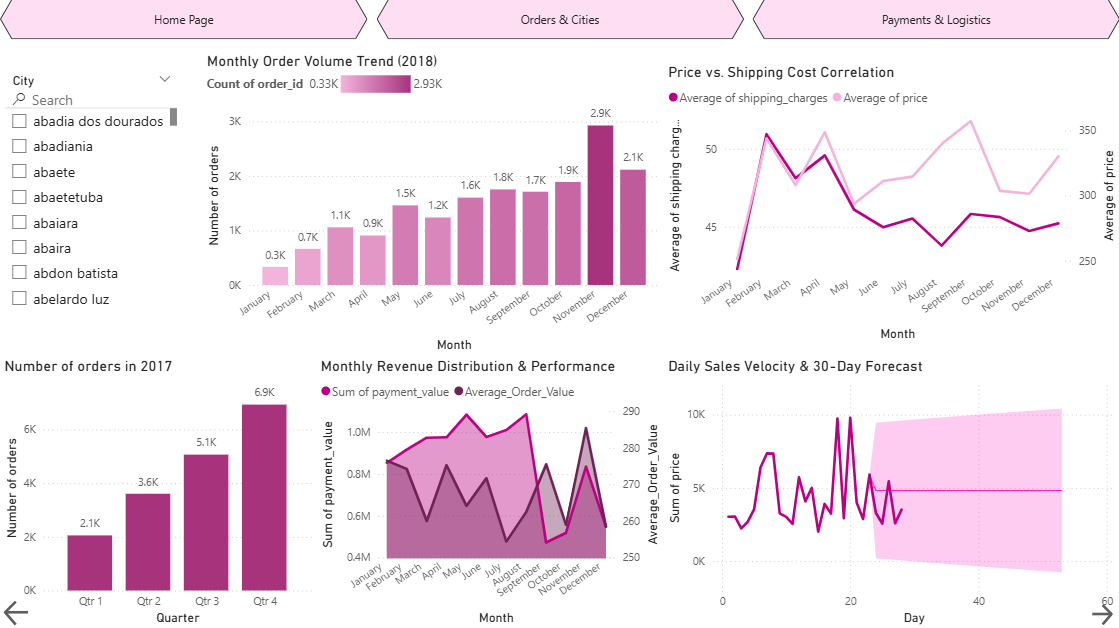

Layout of this report page (visuals, bound fields, positions):
{"tool":"powerbi","page":{"name":"Sales Analysis","canvas":[1280,720],"ordinal":2},"visuals":[{"type":"areaChart","title":"Monthly Revenue Distribution & Performance","fields":{"Y":["Sum(df_Payments.payment_value)"],"Category":["df_Orders.order_purchase_timestamp.Variation.Date Hierarchy.Month"],"Y2":["df_Payments.Average_Order_Value"]},"box":[361.4,408.6,397.1,311.4],"z":0},{"type":"clusteredColumnChart","title":"Monthly Order Volume Trend (2018)","fields":{"Category":["df_Orders.order_purchase_timestamp.Variation.Date Hierarchy.Month"],"Y":["CountNonNull(df_Orders.order_id)"]},"box":[231.4,60,527.1,348.6],"z":1000},{"type":"lineChart","title":"Price vs. Shipping Cost Correlation","fields":{"Y":["Avg(df_OrderItems.shipping_charges)"],"Y2":["Avg(df_OrderItems.price)"],"Category":["df_Orders.order_purchase_timestamp.Variation.Date Hierarchy.Quarter","df_Orders.order_purchase_timestamp.Variation.Date Hierarchy.Month"]},"box":[758.6,72.9,521.4,322.9],"z":2000},{"type":"lineChart","title":"Daily Sales Velocity & 30-Day Forecast","fields":{"Y":["Sum(df_OrderItems.price)"],"Category":["df_Orders.order_purchase_timestamp.Variation.Date Hierarchy.Day"]},"box":[758.6,408.6,521.4,311.4],"z":3000},{"type":"slicer","title":"City","fields":{"Values":["df_Customers.customer_city"]},"box":[1.4,80,205.7,280],"z":4000},{"type":"pageNavigator","box":[0,0,1280,46.7],"z":5000},{"type":"clusteredColumnChart","title":"Number of orders in 2017","fields":{"Y":["CountNonNull(df_Orders.order_id)"],"Category":["df_Orders.order_purchase_timestamp.Variation.Date Hierarchy.Year","df_Orders.order_purchase_timestamp.Variation.Date Hierarchy.Quarter","df_Orders.order_purchase_timestamp.Variation.Date Hierarchy.Month"]},"box":[0,408.6,361.4,311.4],"z":6000},{"type":"actionButton","box":[0,682.3,37.9,37.9],"z":7000},{"type":"actionButton","box":[1242.4,687.2,37.9,33],"z":8000}]}

Visuals, with their boxes in screenshot pixels (x1, y1, x2, y2), scaled from the page's 1280x720 canvas onto the 1119x628 screenshot:
"Monthly Revenue Distribution & Performance" areaChart: 316, 356, 663, 627
"Monthly Order Volume Trend (2018)" clusteredColumnChart: 202, 52, 663, 356
"Price vs. Shipping Cost Correlation" lineChart: 663, 64, 1118, 345
"Daily Sales Velocity & 30-Day Forecast" lineChart: 663, 356, 1118, 627
"City" slicer: 1, 70, 181, 314
pageNavigator: 0, 0, 1118, 41
"Number of orders in 2017" clusteredColumnChart: 0, 356, 316, 627
actionButton: 0, 595, 33, 627
actionButton: 1086, 599, 1118, 627
